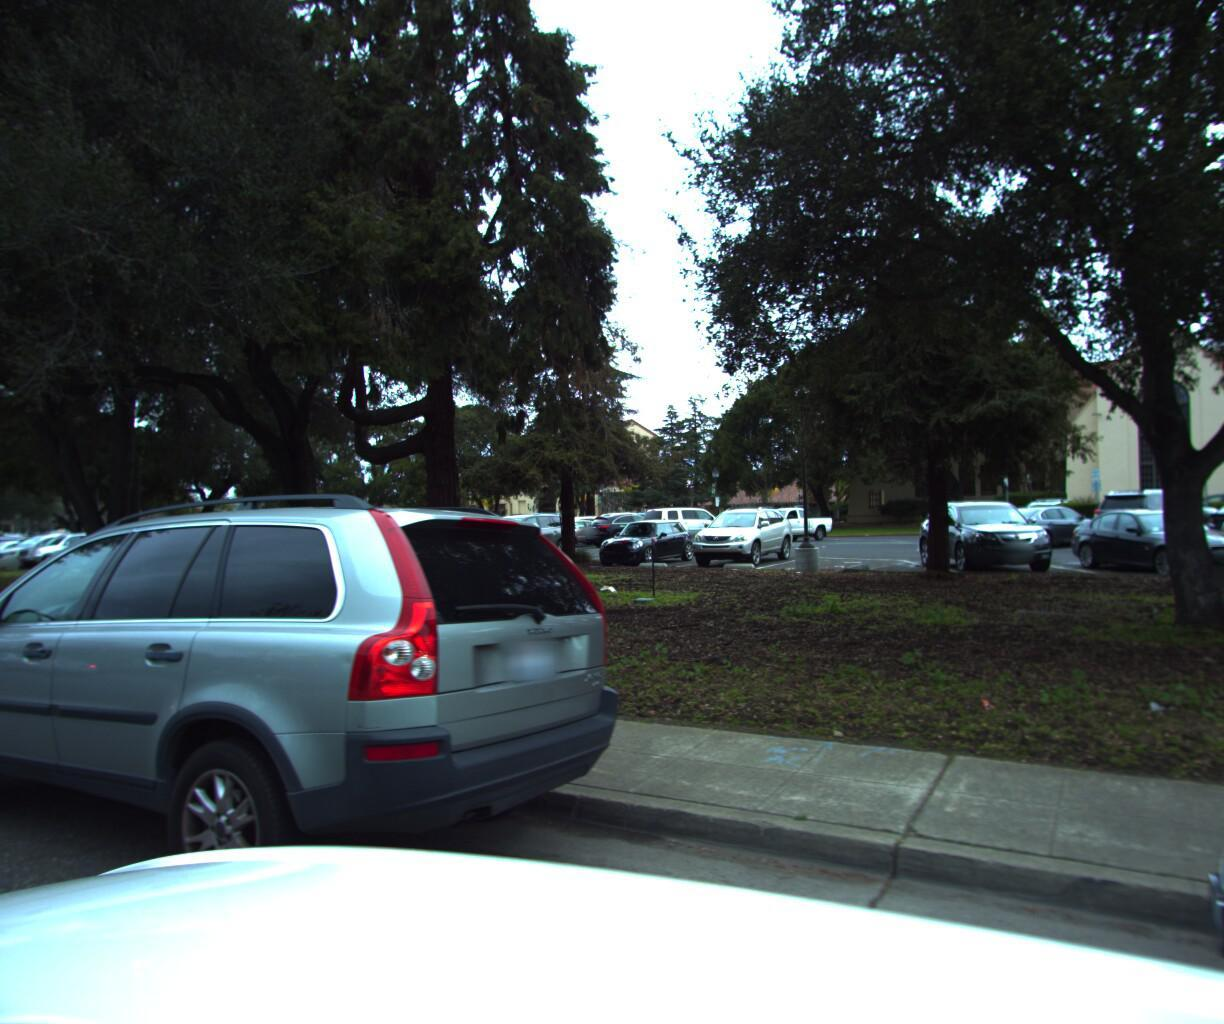car: (0, 465, 645, 1013), (1171, 496, 1224, 1024)
